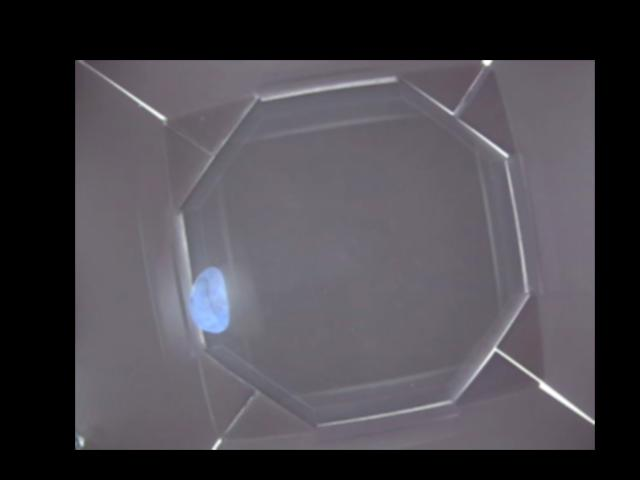Pebble: (185, 267, 227, 333)
